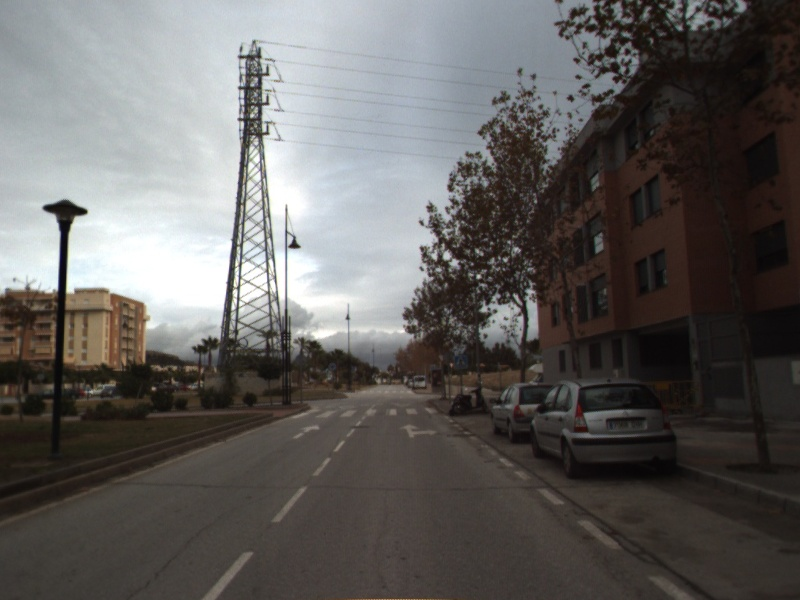STRAIGHT: (290, 422, 322, 441)
STRAIGHT_RIGHT: (398, 422, 439, 440)
